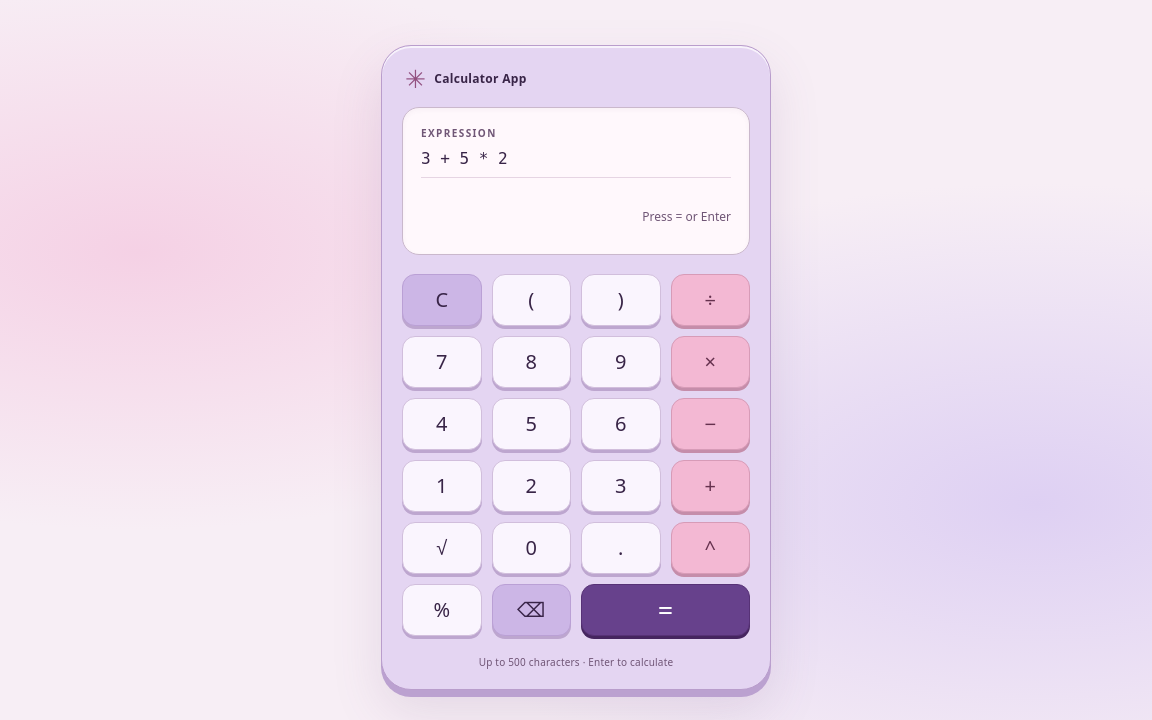
App › supports keypad clear and input
Click the button "C".
click(442, 300)  # box [402,274,482,326]
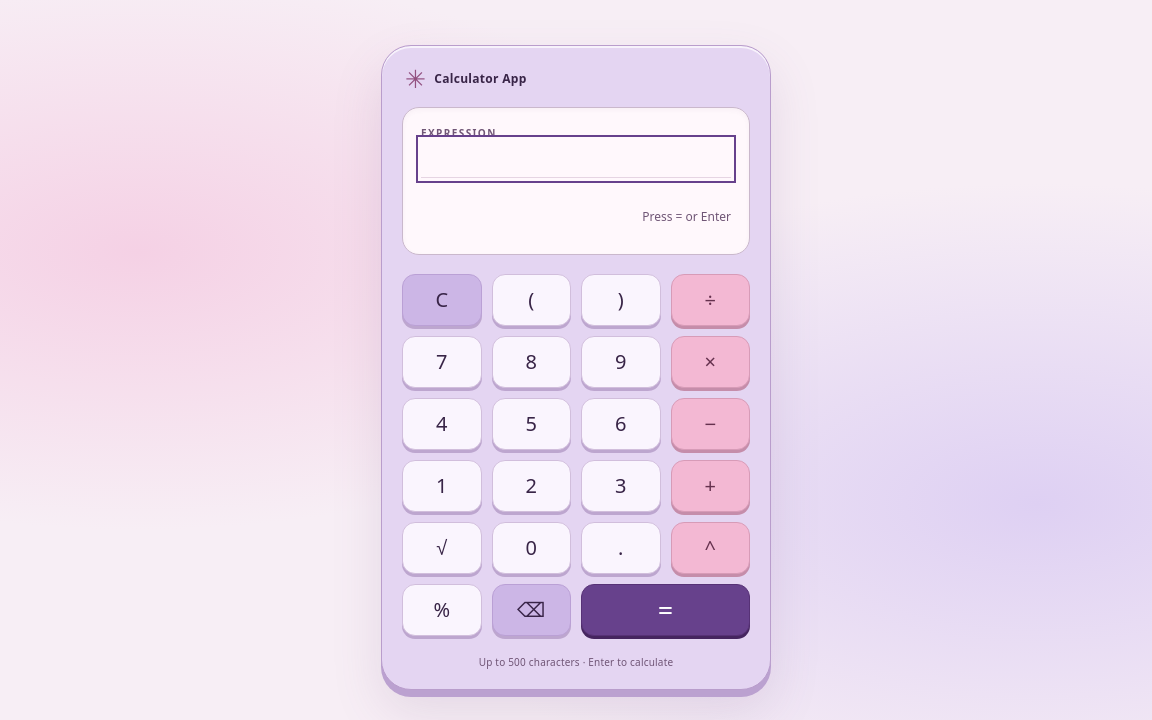
Click the button "7".
click(442, 362)  # box [402,336,482,388]
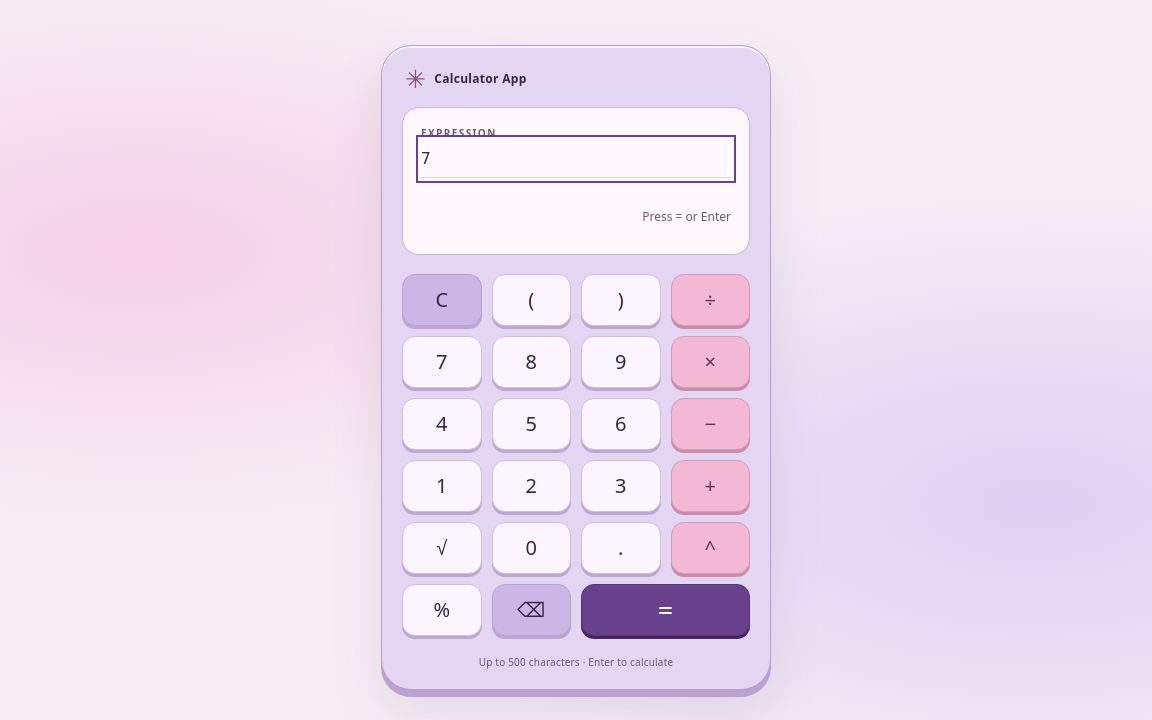
Expected: the field labelled "Expression" holds "7", [421,140,731,178]
